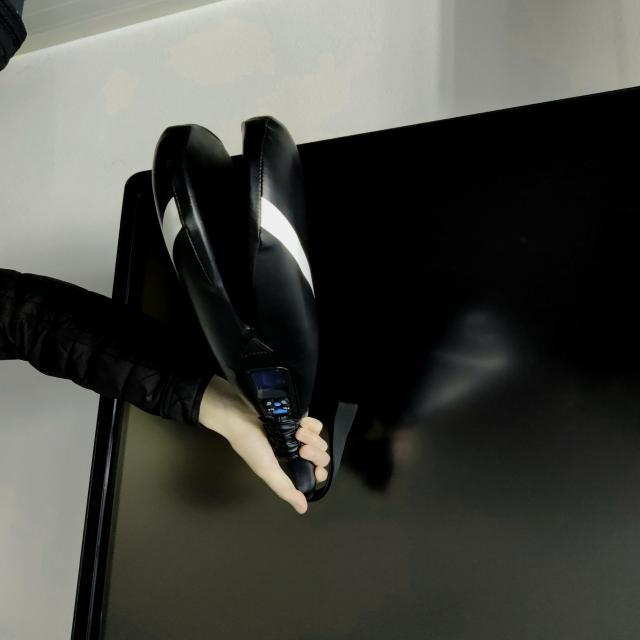paddle: (149, 116, 321, 490)
